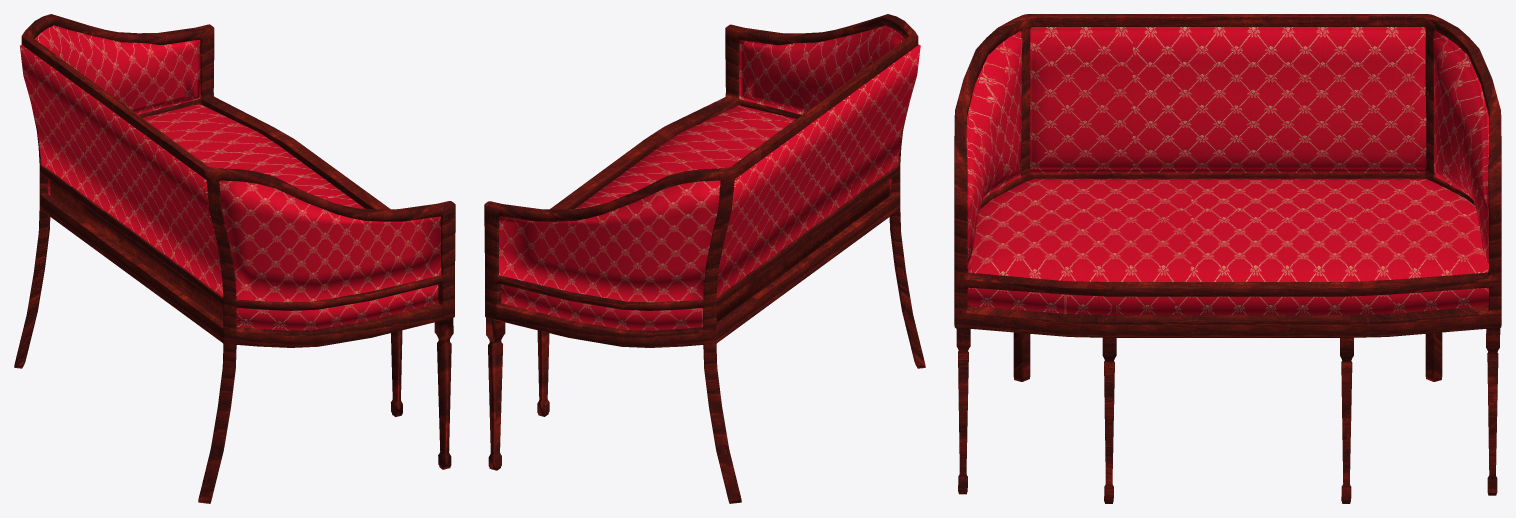
The model's file is luxuriously-Couch.fbx.
3 renders of one model, left to right at view 1: azimuth 30°, elevation 25°; view 2: azimuth 150°, elevation 25°; view 3: azimuth 270°, elevation 25°, orthographic. The views are drawn at different scales.
Visible parts, largest first — view 1: Cube.001; view 2: Cube.001; view 3: Cube.001.
Part boxes in pixels (left/top/right/bottom): Cube.001: left=14, top=14, right=455, bottom=503; Cube.001: left=484, top=14, right=925, bottom=503; Cube.001: left=954, top=14, right=1501, bottom=503.
Size of the model in its own units: 82.64 by 107 by 145.
